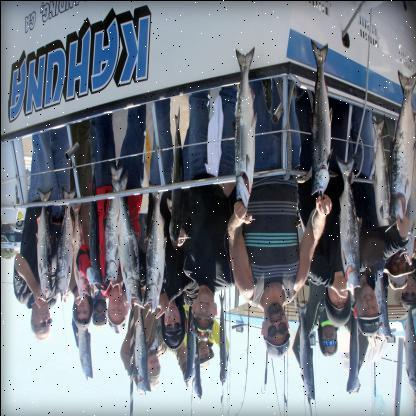fish: (230, 43, 258, 206), (110, 170, 140, 310), (388, 71, 415, 222), (336, 157, 362, 294), (310, 39, 332, 200), (142, 182, 166, 314), (370, 115, 392, 237), (166, 104, 184, 250), (103, 162, 123, 290), (54, 186, 75, 300), (68, 196, 90, 302), (295, 302, 314, 402), (132, 291, 150, 395), (35, 186, 51, 298), (372, 254, 392, 342), (74, 304, 92, 380), (190, 310, 203, 398), (346, 306, 359, 394), (184, 293, 196, 383), (218, 291, 229, 384)
